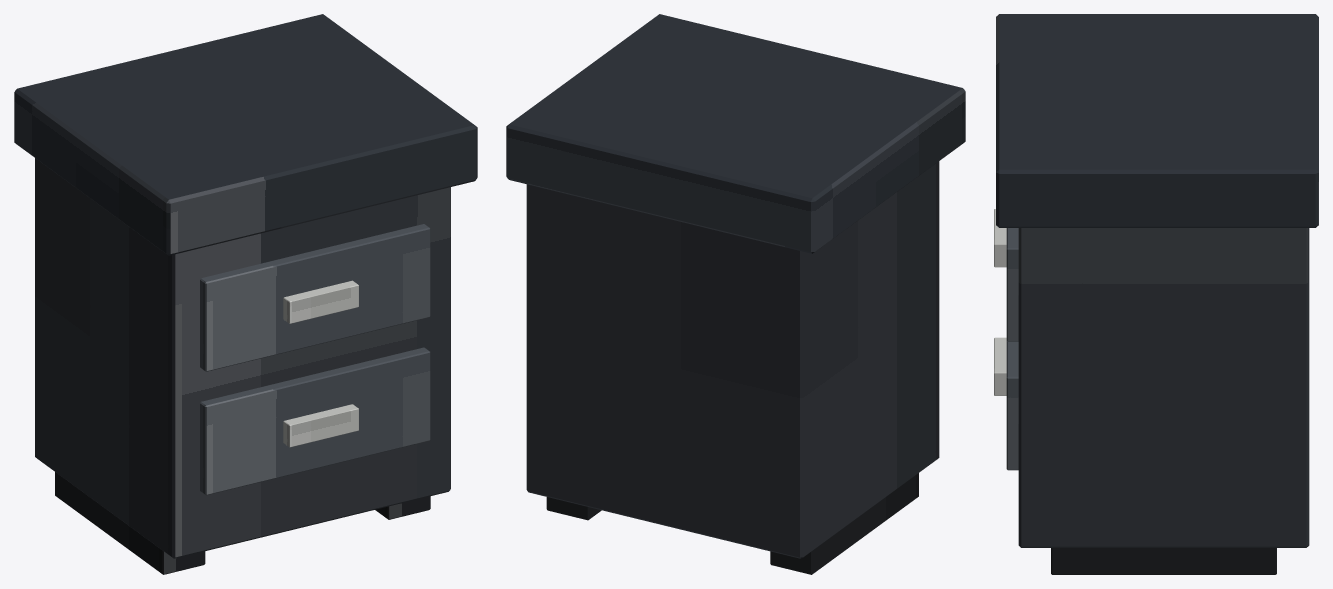
Rendered from bedroom_nightstand_charcoal.glb.
3 renders of one model, left to right at view 1: azimuth 30°, elevation 25°; view 2: azimuth 150°, elevation 25°; view 3: azimuth 270°, elevation 25°, orthographic. The views are drawn at different scales.
Visible parts, largest first — view 1: NightstandBody, NightstandTop, NightstandDrawer_2, NightstandDrawer_1, NightstandFoot_L, NightstandHandle_2, NightstandHandle_1, NightstandFoot_R; view 2: NightstandBody, NightstandTop, NightstandFoot_L, NightstandFoot_R; view 3: NightstandBody, NightstandTop, NightstandFoot_R, NightstandDrawer_2, NightstandDrawer_1, NightstandHandle_2, NightstandHandle_1.
Part boxes in pixels (left/top/right/bottom): NightstandBody: left=35, top=158, right=450, bottom=558; NightstandTop: left=14, top=14, right=477, bottom=255; NightstandDrawer_2: left=200, top=347, right=430, bottom=495; NightstandDrawer_1: left=200, top=224, right=430, bottom=371; NightstandFoot_L: left=55, top=472, right=205, bottom=574; NightstandHandle_2: left=283, top=404, right=358, bottom=447; NightstandHandle_1: left=283, top=280, right=358, bottom=323; NightstandFoot_R: left=375, top=496, right=430, bottom=519; NightstandBody: left=526, top=161, right=939, bottom=558; NightstandTop: left=506, top=14, right=965, bottom=253; NightstandFoot_L: left=770, top=473, right=918, bottom=574; NightstandFoot_R: left=546, top=497, right=601, bottom=520; NightstandBody: left=1018, top=228, right=1309, bottom=547; NightstandTop: left=996, top=14, right=1318, bottom=227; NightstandFoot_R: left=1051, top=548, right=1276, bottom=574; NightstandDrawer_2: left=1006, top=341, right=1018, bottom=470; NightstandDrawer_1: left=1006, top=228, right=1018, bottom=341; NightstandHandle_2: left=994, top=337, right=1006, bottom=395; NightstandHandle_1: left=994, top=209, right=1006, bottom=267.
Size of the model in its own units: 0.58 by 0.71 by 0.503.
1 material, 1 textured.
